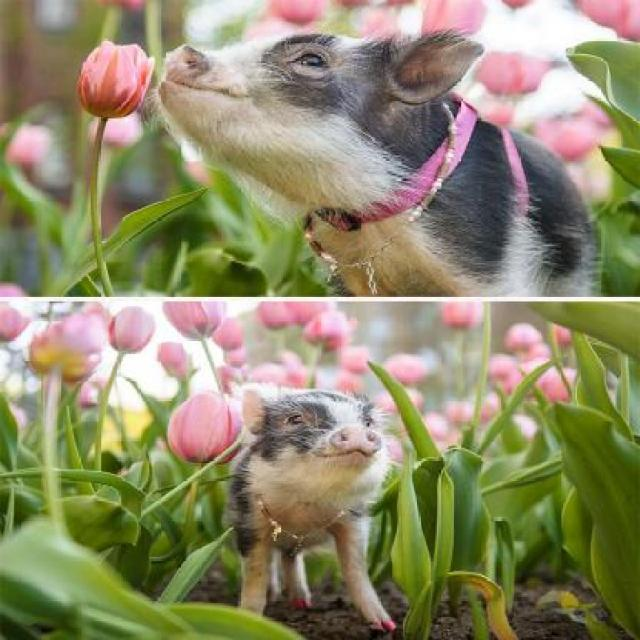pig: (158, 32, 594, 294), (229, 388, 394, 629)
